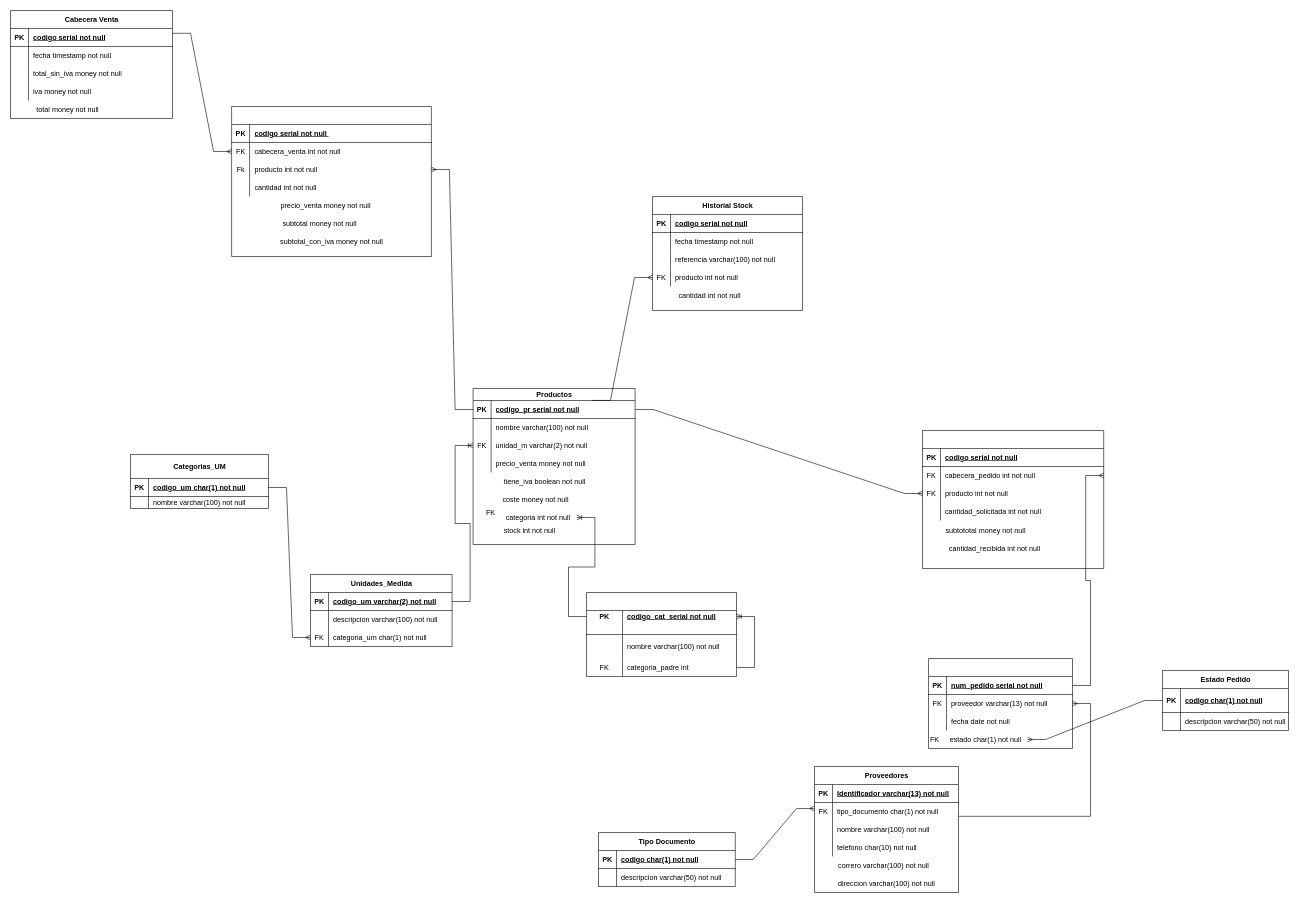
The diagram is 1299 pixels wide and 903 high, and some of its shapes have lost their labels. The box of each missing label's shape, as (x1, y1, x2, y2) in pixels:
Cabecera Pedido: (928, 658, 1072, 748)
Categorias: (586, 592, 736, 676)
Detalle Pedido: (922, 430, 1104, 568)
Detalle Venta: (231, 106, 431, 256)
